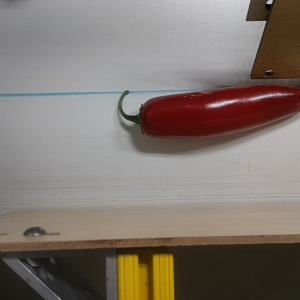Cut Point: (129, 95, 161, 139)
